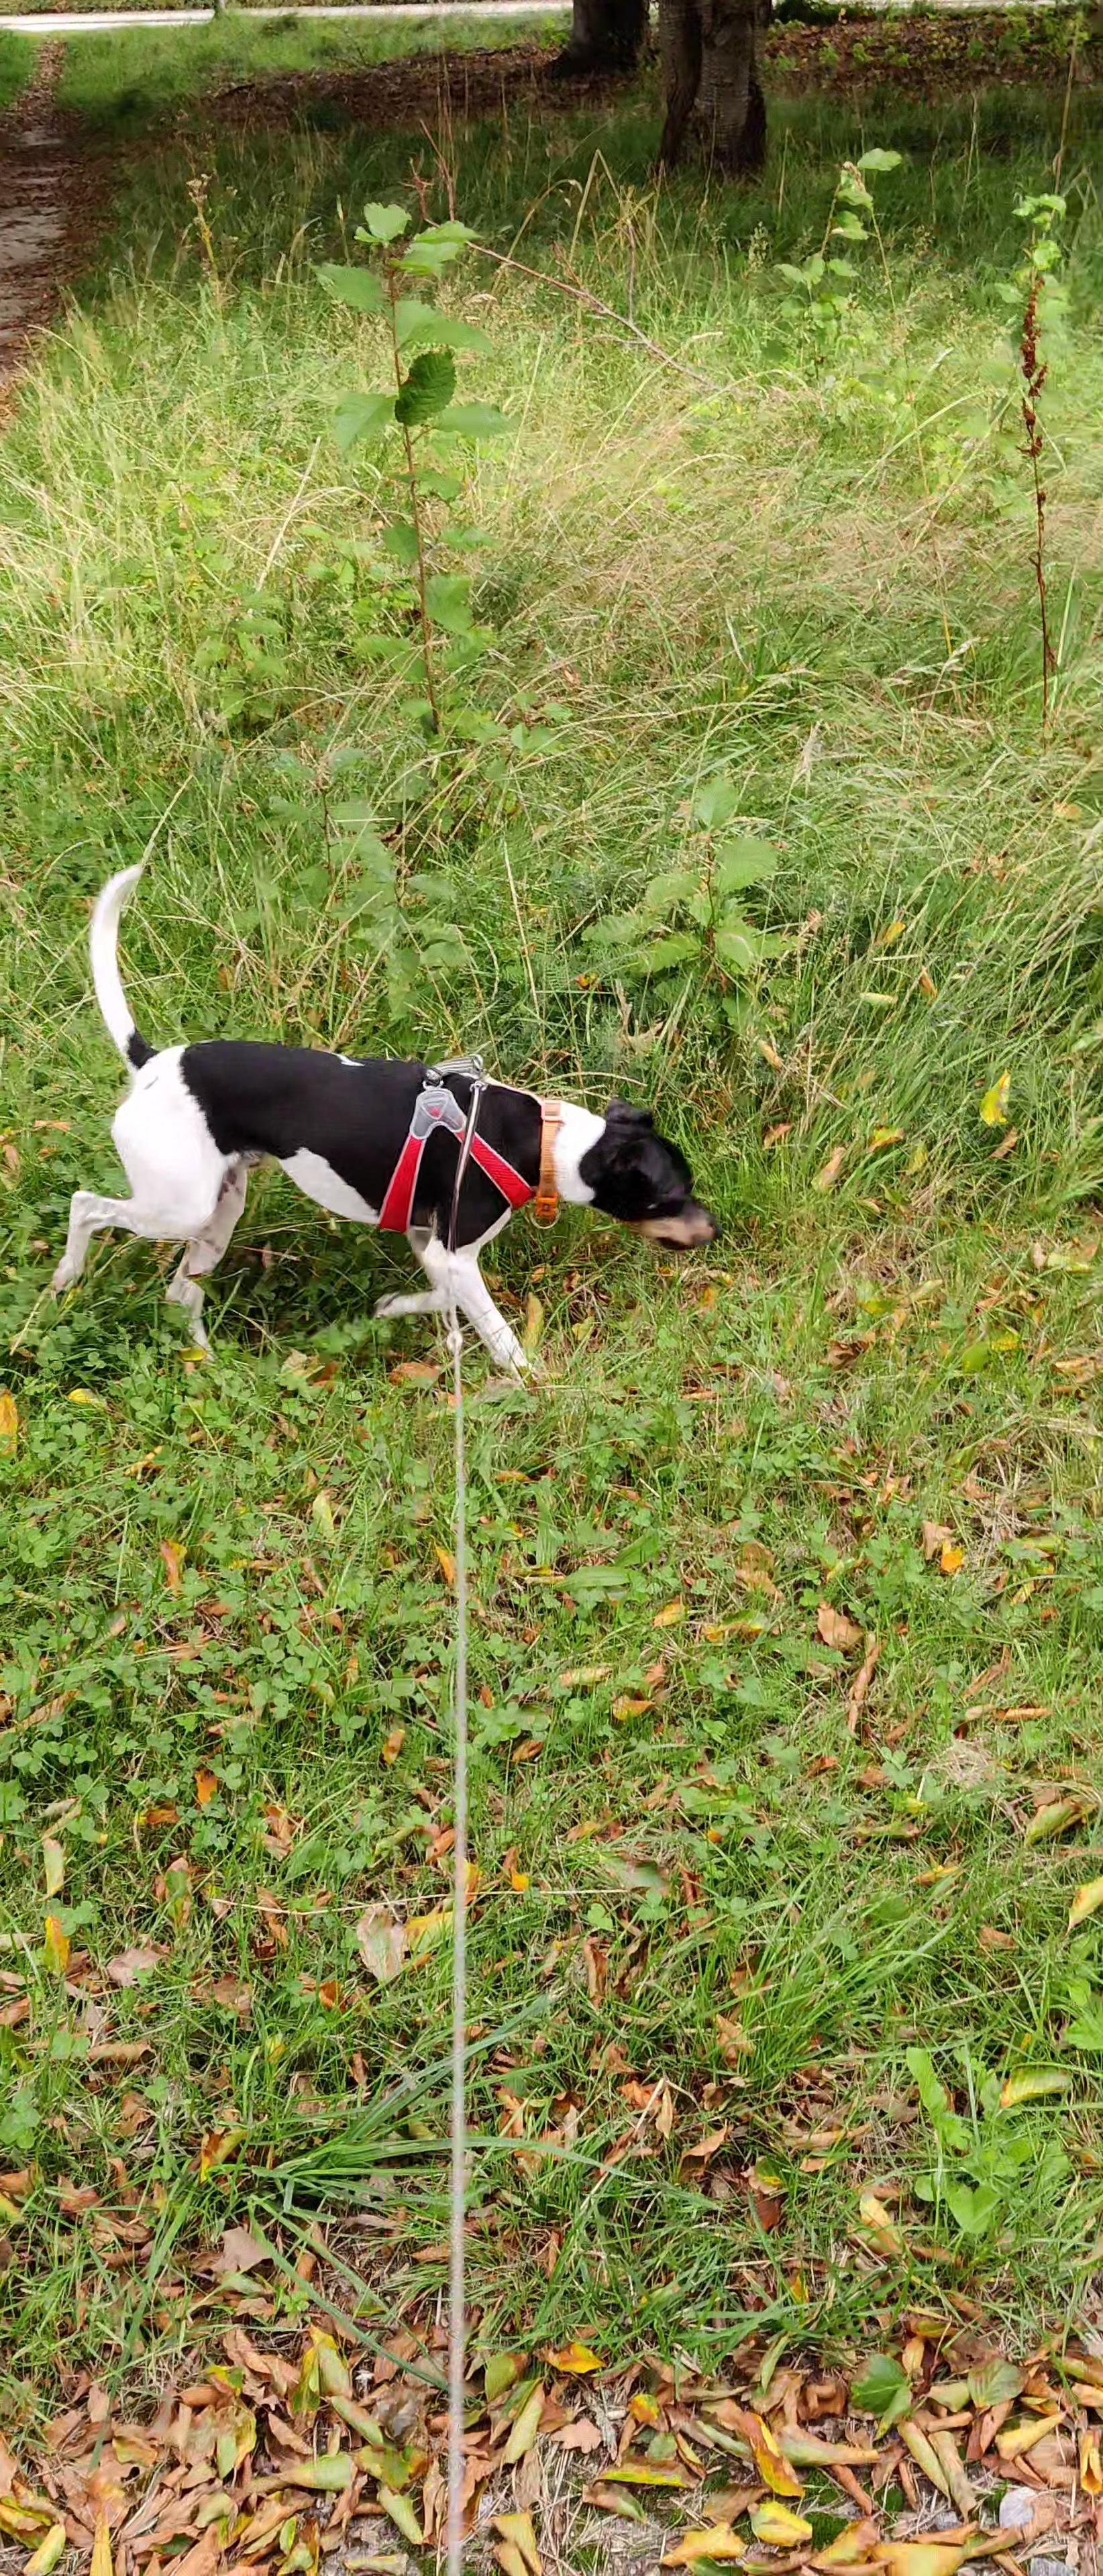Dog: (36, 843, 731, 1405)
